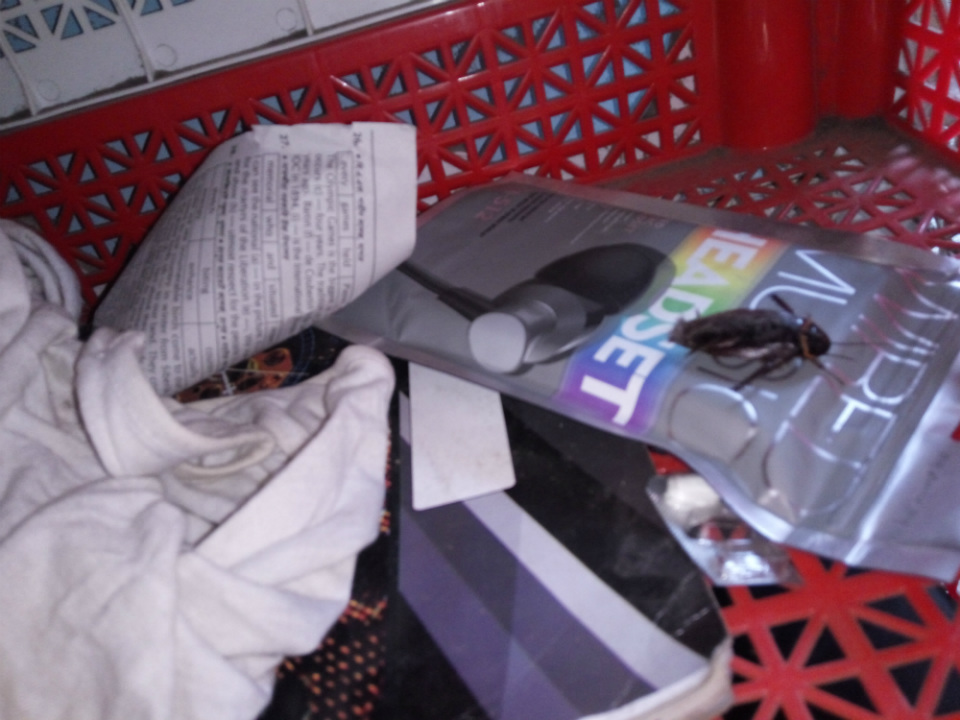cockroach: (667, 298, 884, 406)
